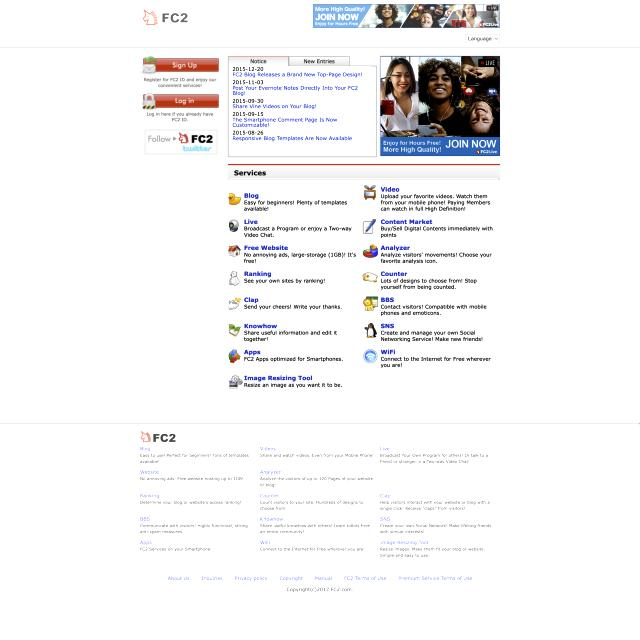ImageView: (381, 54, 500, 156), (313, 2, 501, 30)
QR code: (230, 66, 371, 146)
alert: (466, 34, 500, 44)
badge: (0, 422, 639, 640)
bag: (0, 0, 640, 47)
date picker: (140, 6, 191, 30)
decoration: (230, 178, 500, 389)
